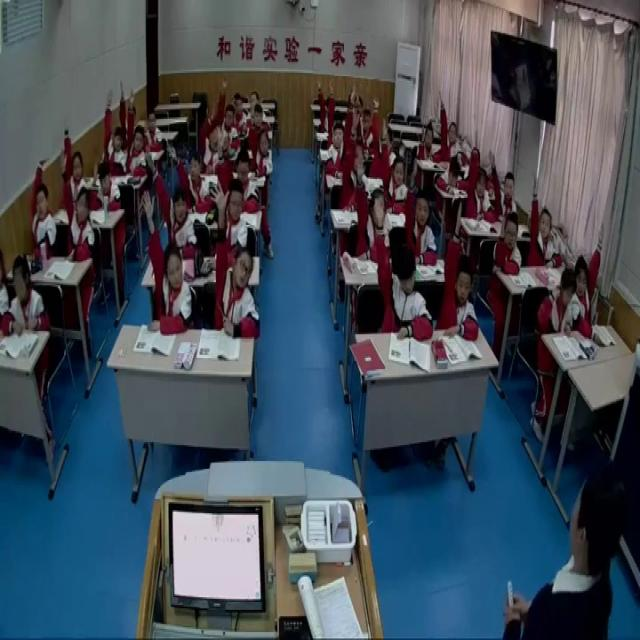focused: (2, 253, 47, 338), (144, 107, 165, 155), (232, 92, 247, 134)
raising_hand: (370, 195, 432, 341), (210, 178, 262, 340), (141, 190, 196, 336), (441, 200, 482, 340), (145, 150, 197, 258), (216, 127, 250, 258), (58, 148, 96, 263), (406, 156, 441, 266), (575, 224, 606, 341), (526, 173, 562, 273), (25, 152, 57, 261), (379, 117, 413, 218), (354, 155, 388, 255), (167, 140, 211, 213), (326, 77, 357, 179), (540, 268, 582, 336), (464, 128, 494, 221), (368, 87, 398, 180), (343, 106, 368, 211), (492, 206, 524, 279), (486, 146, 517, 221), (62, 123, 88, 212), (102, 90, 128, 176), (198, 100, 225, 176), (127, 88, 148, 180), (248, 102, 273, 179), (90, 158, 121, 215), (438, 93, 462, 165), (214, 74, 238, 144), (118, 79, 138, 146), (418, 122, 437, 162)
